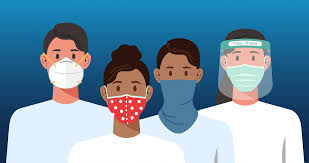FaceMask: (106, 94, 147, 124), (48, 57, 83, 88), (226, 64, 265, 91)
